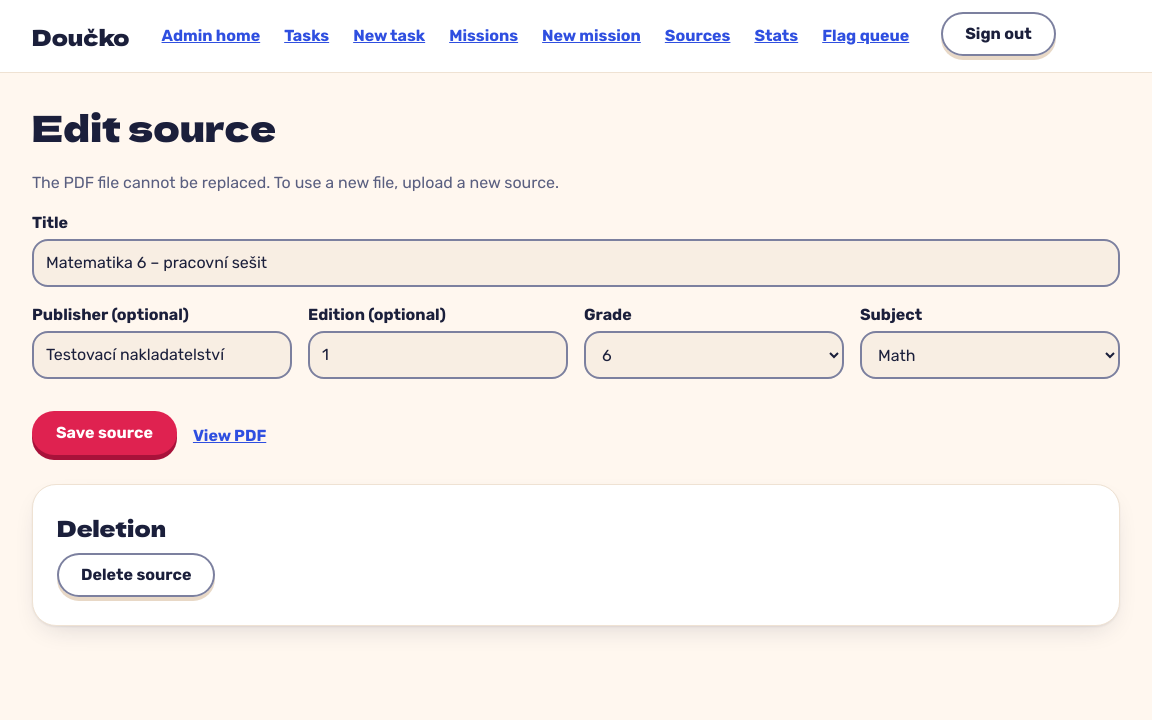
Test: source metadata edit (FR-55) › says saving failed without a server answer
This screenshot has width=1152, height=720.
Check: the heading "Edit source" is shown, box [32,100,276,152]
Check: the field showing "Matematika 6 – pracovní sešit" is shown, box [32,239,1120,287]
Click the button "Save source".
click(104, 433)  # box [32,411,177,455]
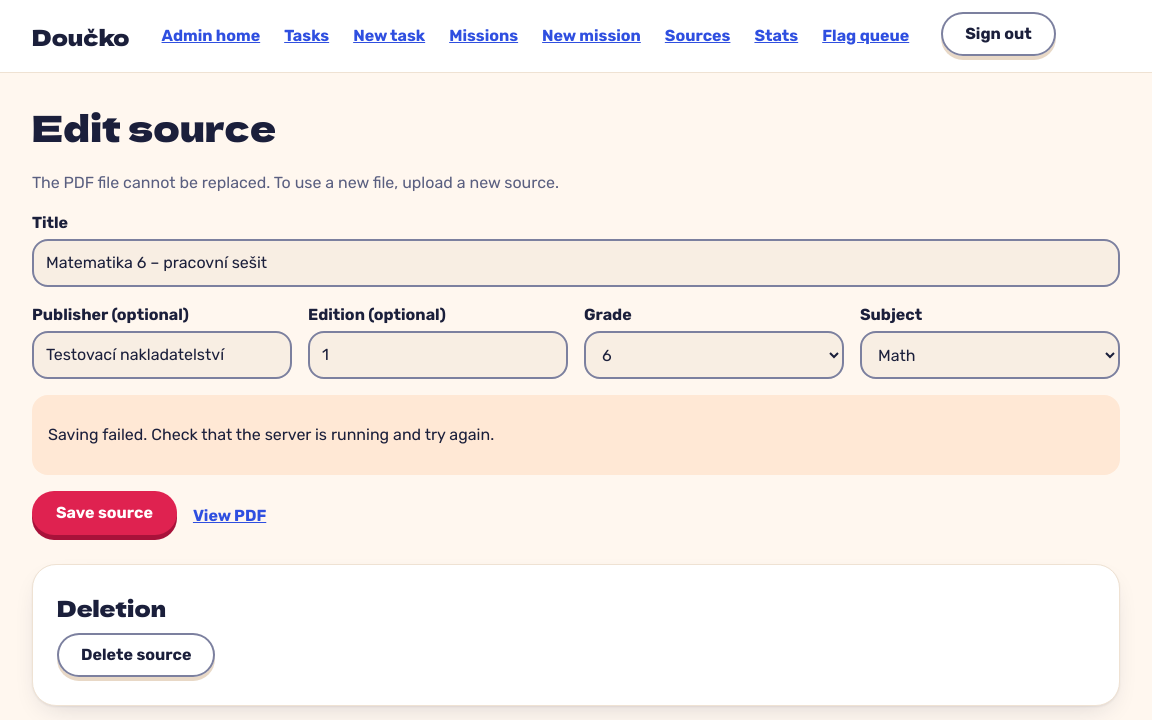
Check: the message reads "Saving failed. Check that the server is running and try again.", box [48,425,494,444]
